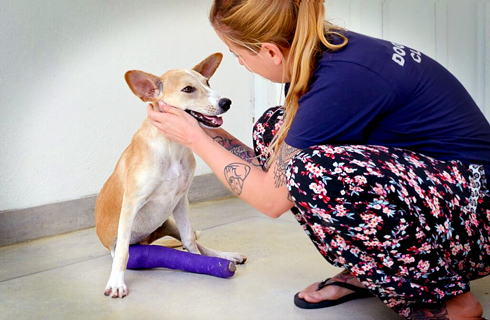Dog: (88, 48, 249, 284)
